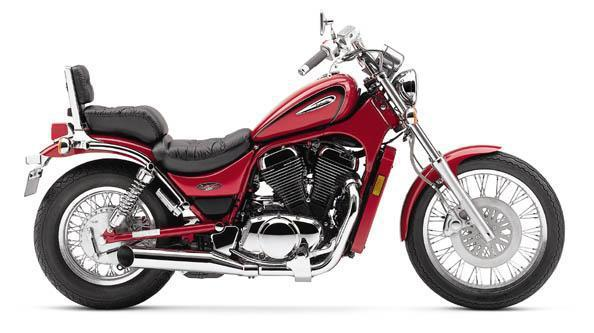motorcycle: (13, 6, 587, 323)
